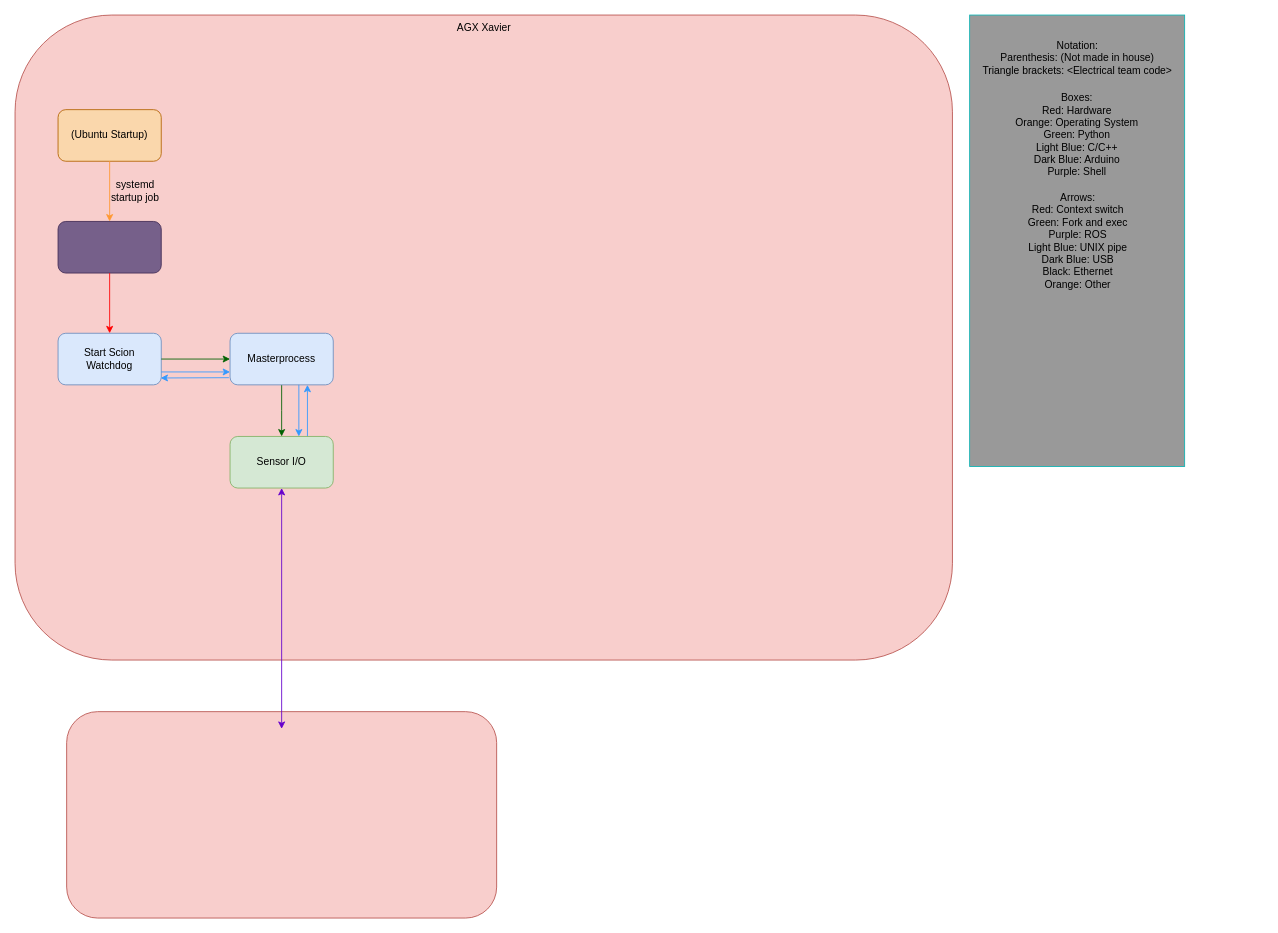
Image size: 1278x933. Some labels were removed from this diagram. Here are the shapes that lost their labels. From the top down, the centre of each, then its label:
At point (109, 247): "Bootstap".
At point (281, 814): "USB Hub".
